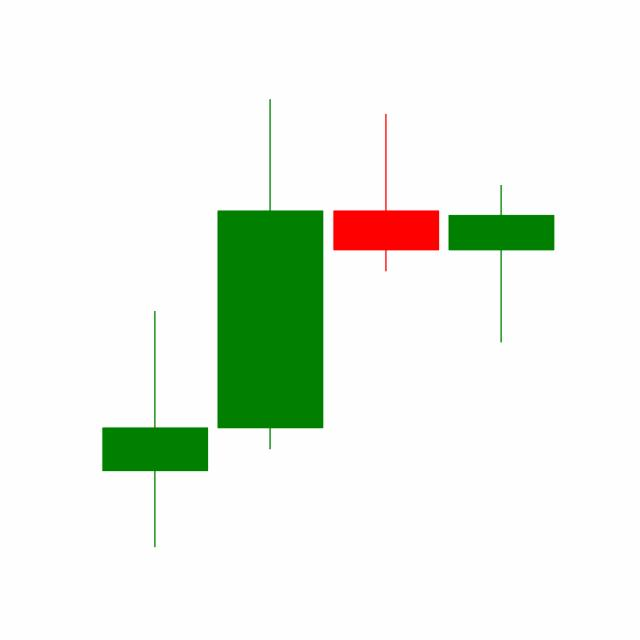Hammer: (443, 182, 559, 345)
